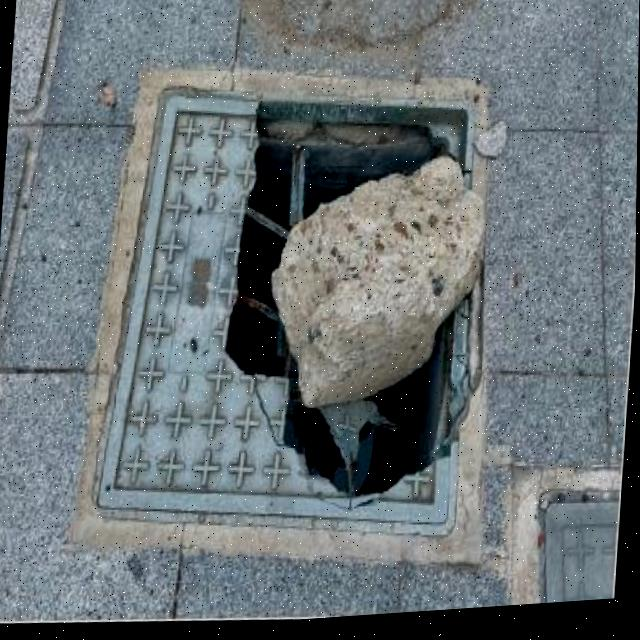manhole: (92, 58, 505, 567)
